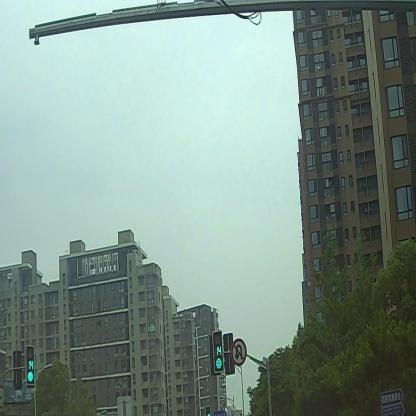Green Light: (214, 330, 223, 374), (26, 343, 35, 386)
